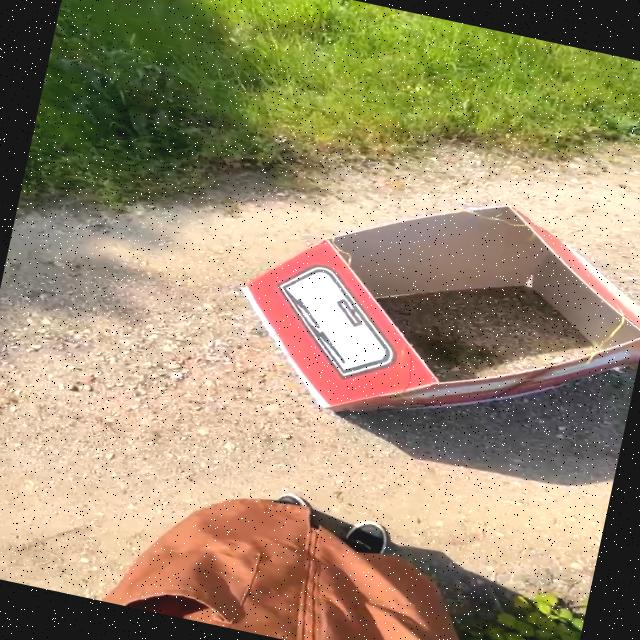red_car: (180, 132, 640, 497)
